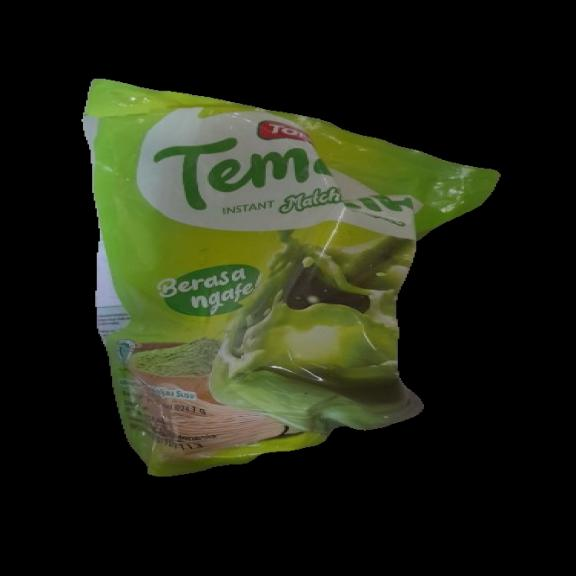Plastik: (74, 68, 505, 484)
